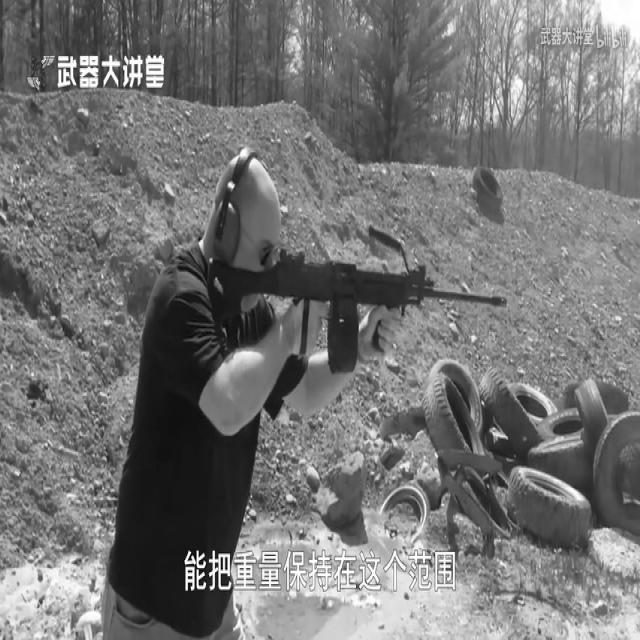Sub-machine-gun: (185, 233, 520, 369)
